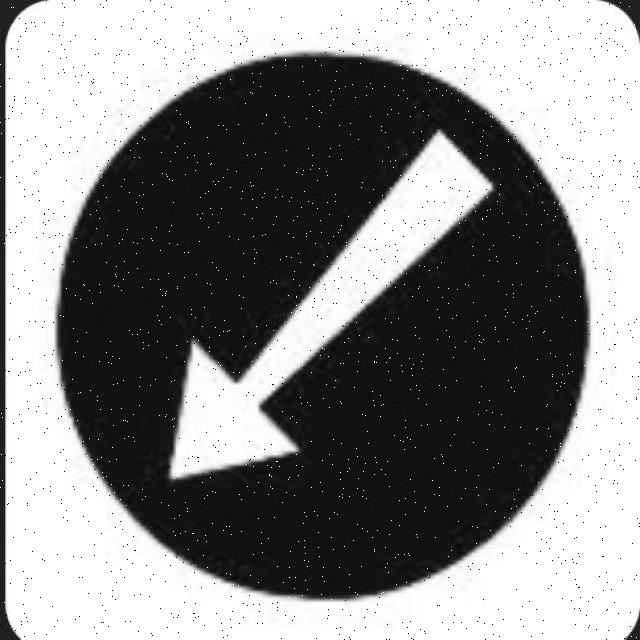compulsory_keep_left: (53, 44, 617, 614)
